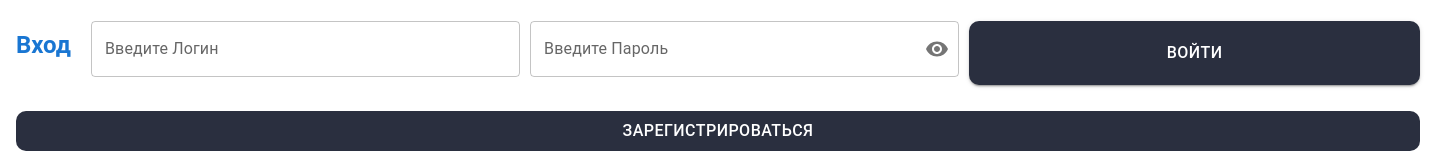
SignIn tests › serverError is work
In the field labelled "Введите Логин": [306, 49] box [91,21,520,77], type "Admin"
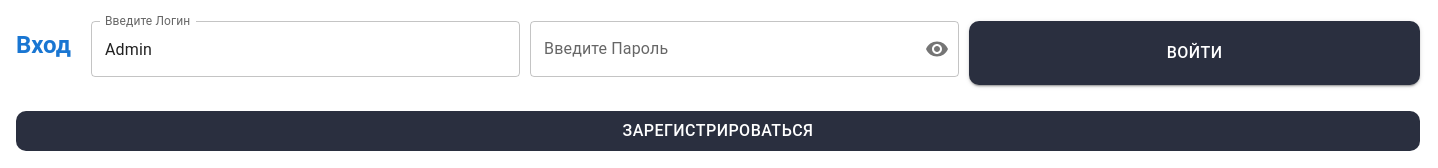
In the password field labelled "Введите Пароль": [724, 49] box [530,21,917,77], type "1234567AS"
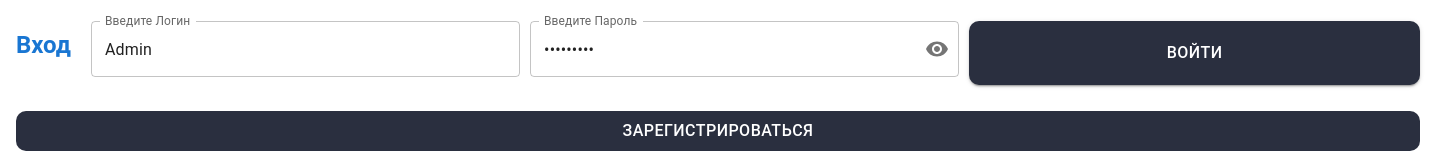
Click the button "Войти": [1195, 53] box [969,21,1420,85]
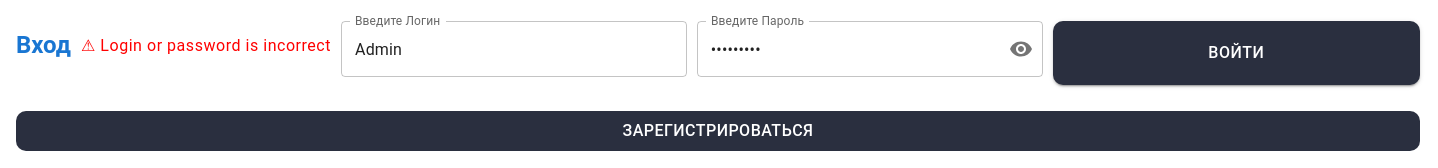
Expected: the text "⚠ Login or password is incorrect" is shown, [81,33,331,60]
